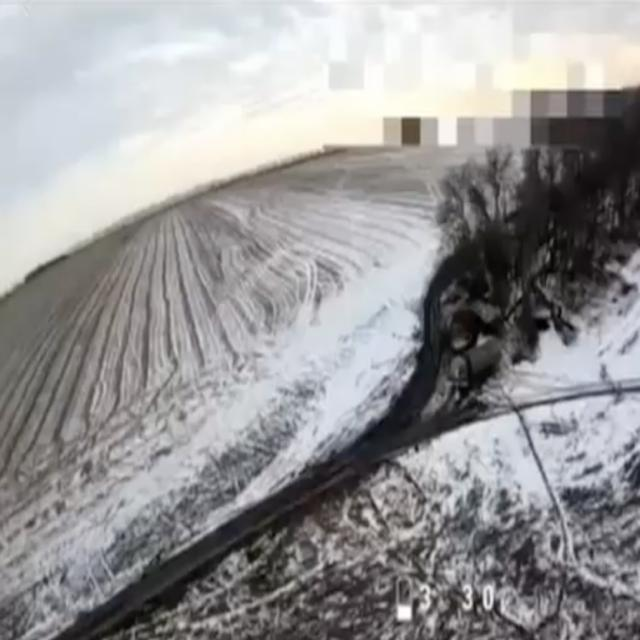vehicle: (446, 339, 501, 392)
